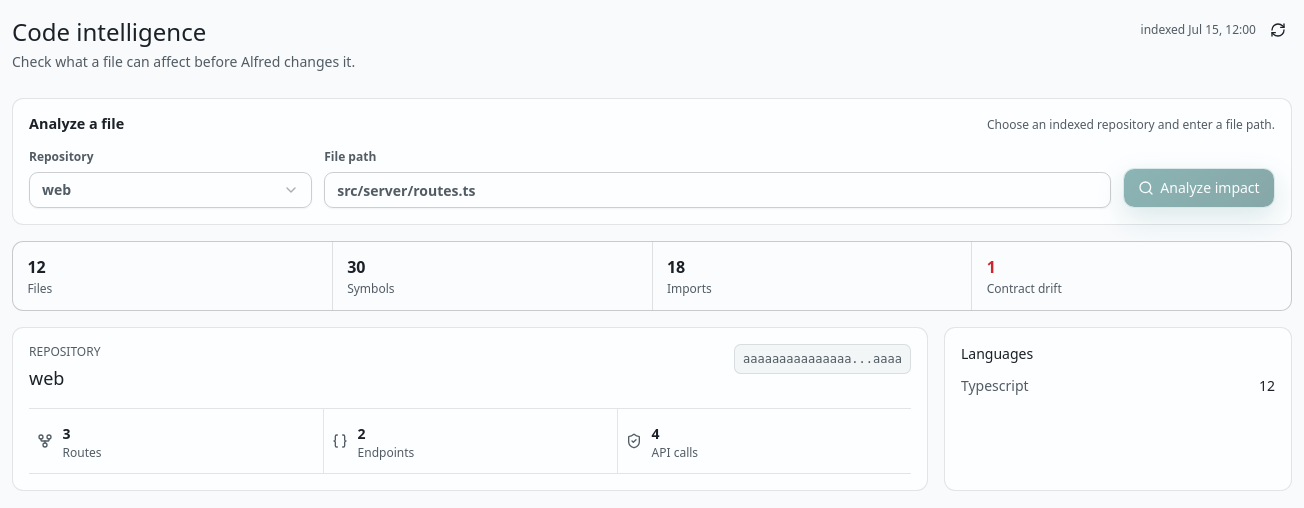
Scenario: CodeIntelligenceView › ignores analysis that finishes after the repository changes
Type "src/api.ts" into the field labelled "File path" at point(718, 190), box x1=324 y1=172 x2=1111 y2=208
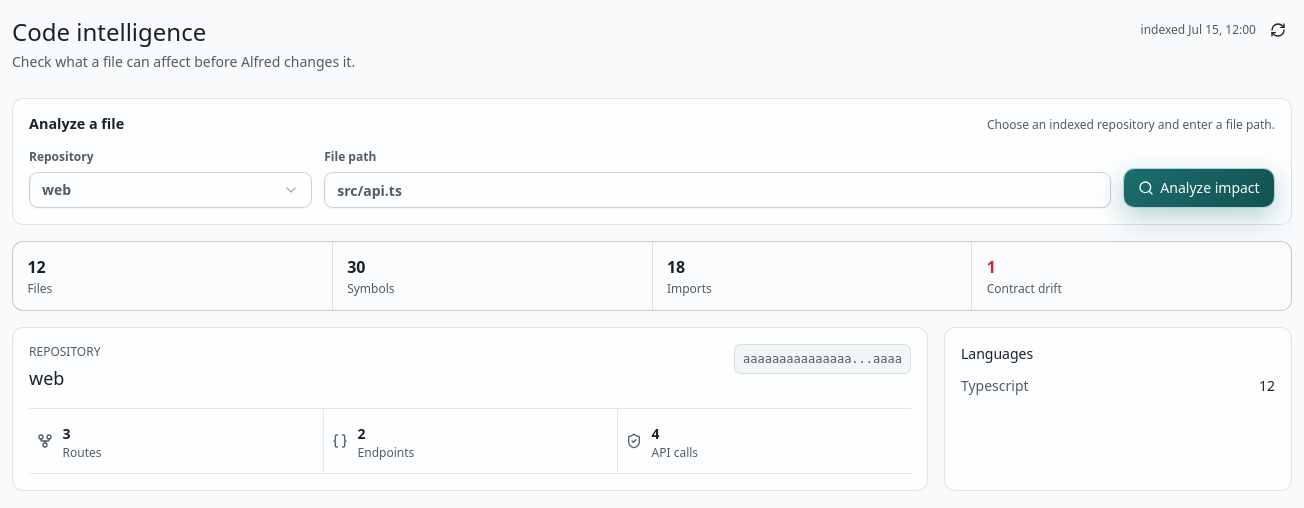
Click the button "Analyze impact" at point(1199, 188), box x1=1123 y1=168 x2=1275 y2=208
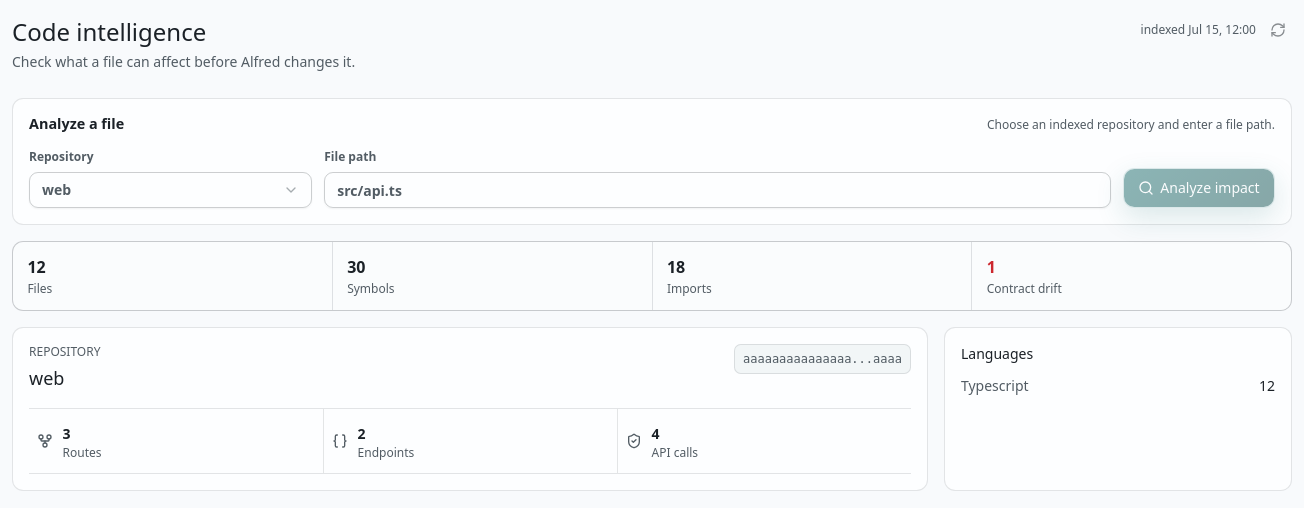
Click the dropdown named "Repository" at point(57, 190), box x1=29 y1=172 x2=312 y2=208
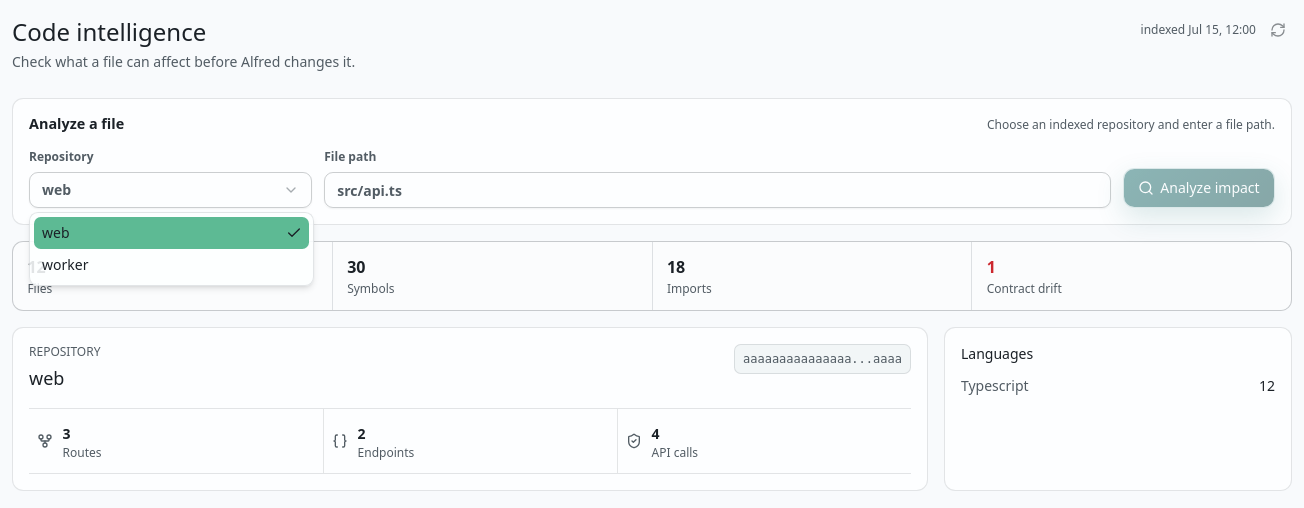
Click the option "worker" at point(65, 264), box x1=42 y1=255 x2=88 y2=274
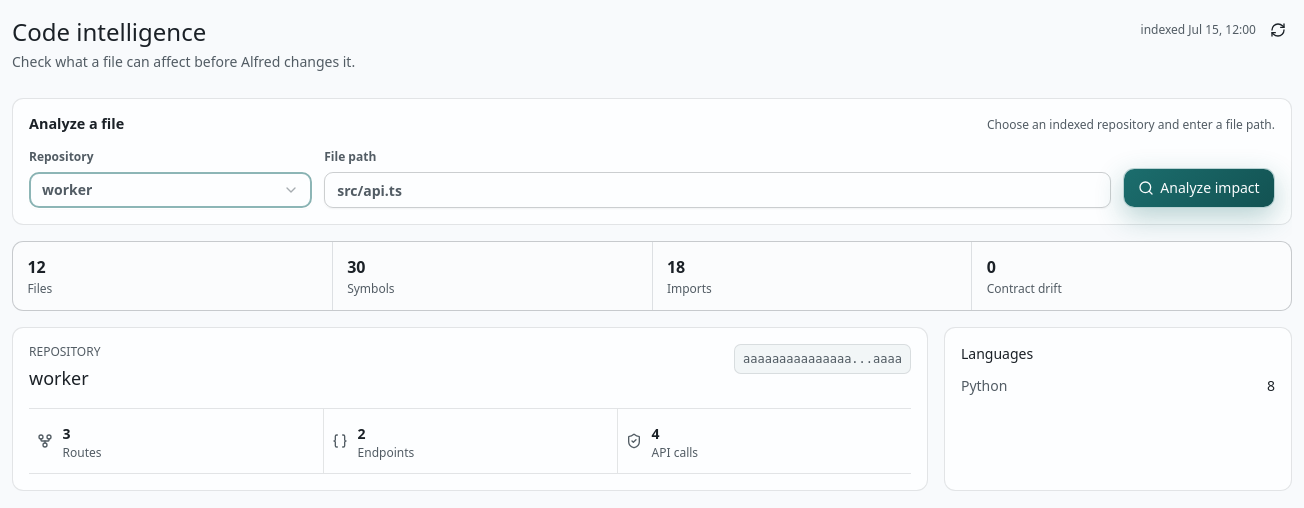
Expected: the dropdown named "Repository" reads "worker", x1=29 y1=172 x2=312 y2=208
Expected: the element named "worker index summary" is shown, x1=12 y1=241 x2=1292 y2=491
